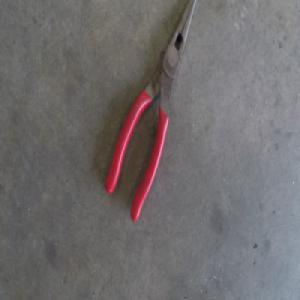Pliers: (105, 3, 195, 222)
